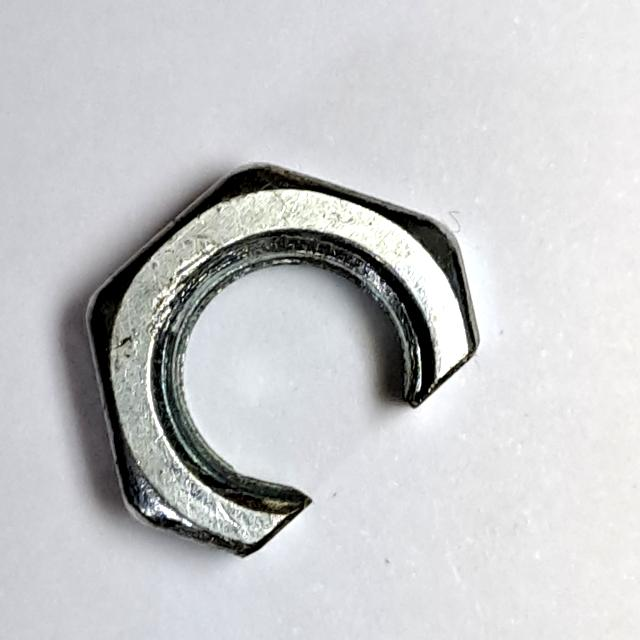Fracture: (68, 151, 497, 575)
